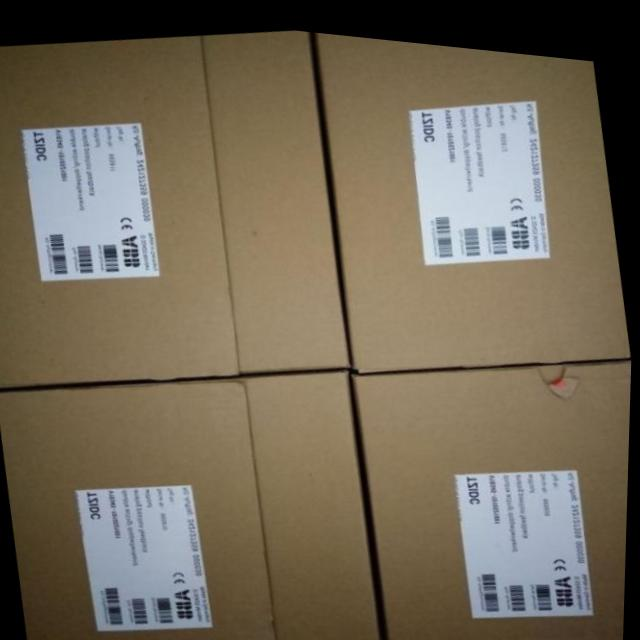box: (0, 25, 348, 388), (312, 25, 633, 365), (2, 362, 384, 640), (353, 347, 633, 640)
